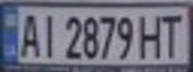2: (60, 11, 84, 60)
7: (97, 11, 118, 60)
8: (78, 11, 100, 60)
9: (115, 11, 139, 60)
A: (15, 9, 42, 58)
H: (136, 11, 166, 60)
I: (36, 10, 60, 60)
T: (154, 10, 187, 58)
